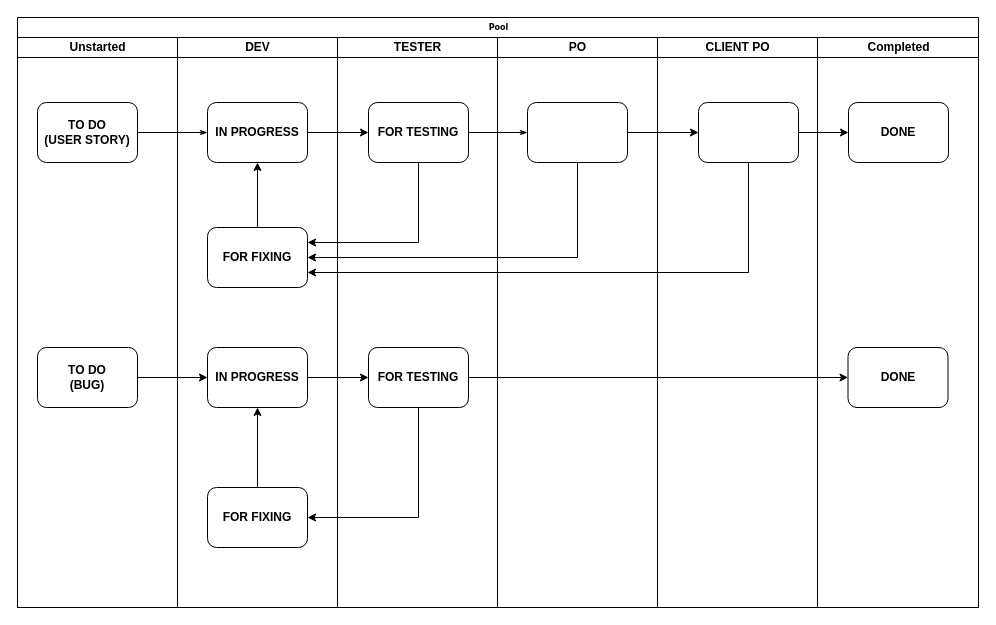
The diagram is 996 pixels wide and 625 high, and some of its shapes have lost their labels. Here are the shapes that lost their labels. From the top down, the centre of each, then its label:
the point at 577,132: FOR REVIEW
the point at 748,132: FOR DEMO
